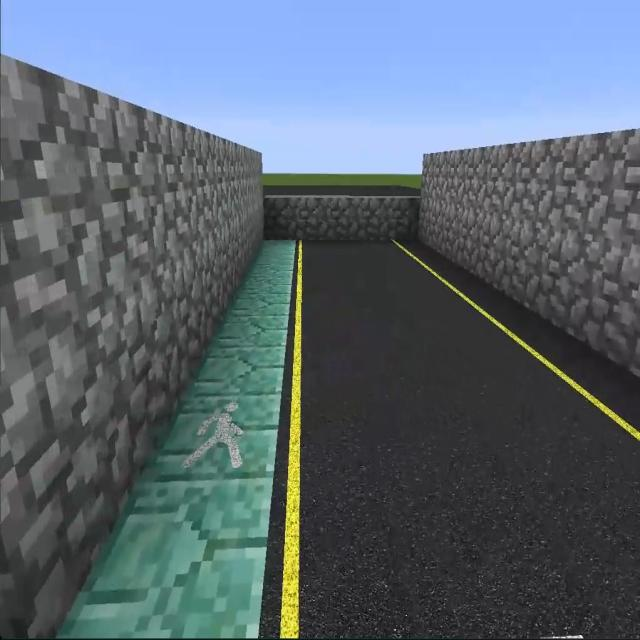road: (268, 236, 638, 629)
sidewalk: (58, 241, 296, 639)
